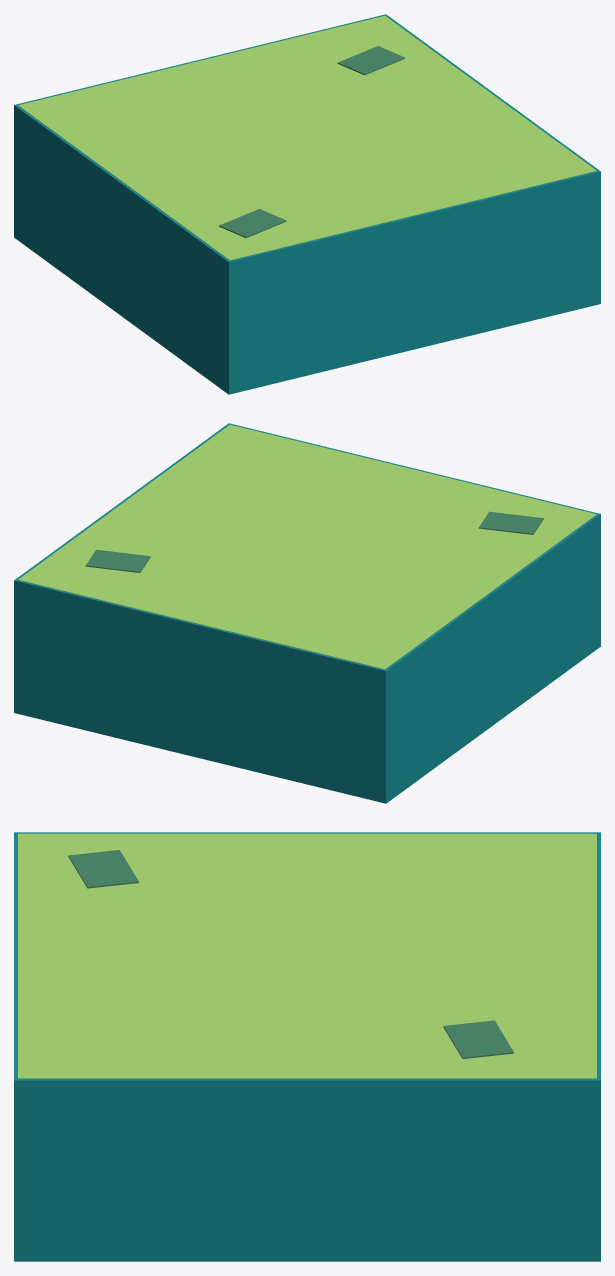
File: ground-tile.glb
The picture shows the model from 3 angles, top to bottom: view 1: azimuth 30°, elevation 25°; view 2: azimuth 150°, elevation 25°; view 3: azimuth 270°, elevation 25°; orthographic projection. The views are drawn at different scales.
Parts seen in each view (by area): view 1: Stone, Top, Grass Inlay, Grass Inlay.001; view 2: Stone, Top, Grass Inlay, Grass Inlay.001; view 3: Top, Stone, Grass Inlay, Grass Inlay.001.
Part boxes in pixels (left/top/right/bottom): Stone: left=14, top=14, right=600, bottom=394; Top: left=18, top=15, right=596, bottom=260; Grass Inlay: left=219, top=209, right=286, bottom=238; Grass Inlay.001: left=337, top=46, right=405, bottom=75; Stone: left=14, top=423, right=600, bottom=803; Top: left=18, top=424, right=596, bottom=669; Grass Inlay: left=478, top=511, right=543, bottom=534; Grass Inlay.001: left=85, top=549, right=150, bottom=572; Top: left=18, top=833, right=596, bottom=1078; Stone: left=14, top=832, right=600, bottom=1261; Grass Inlay: left=68, top=850, right=138, bottom=888; Grass Inlay.001: left=443, top=1020, right=513, bottom=1058.
Size of the model in its own units: 1.44 by 0.495 by 1.44.
